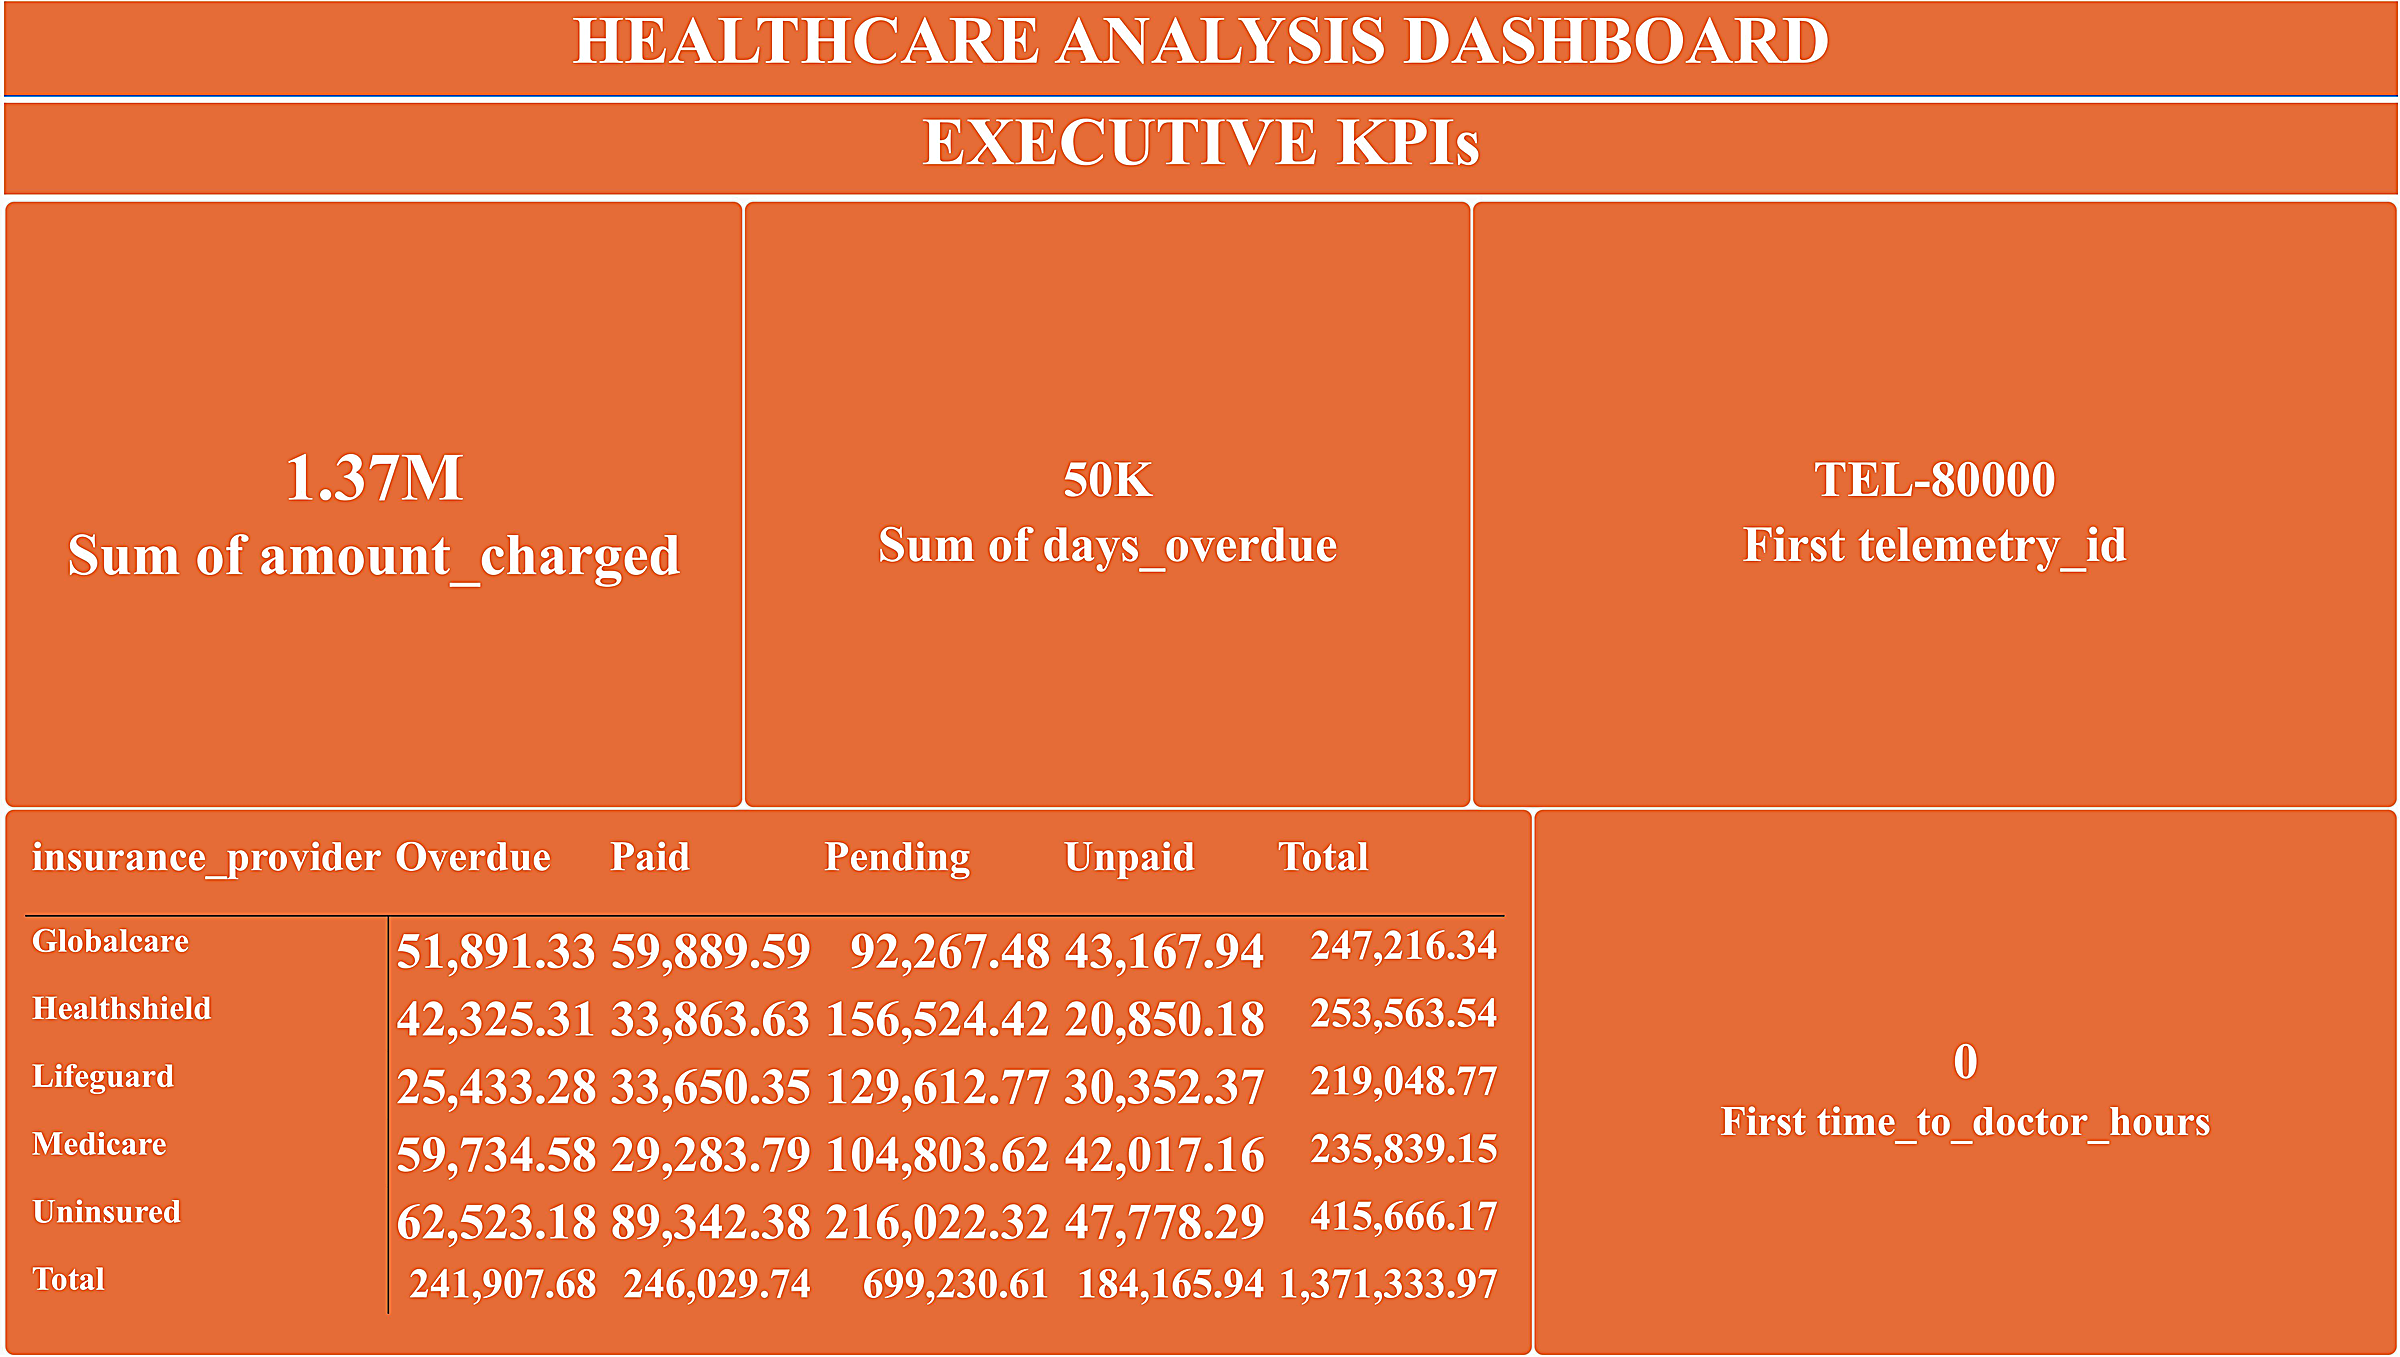

What the dashboard file says about the page in this screenshot:
{"tool":"powerbi","page":{"name":"Executive KPIs","canvas":[1920,1080],"ordinal":0},"visuals":[{"type":"shape","title":"HEALTHCARE ANALYSIS DASHBOARD","box":[9.8,0,1910.4,75.6],"z":0},{"type":"shape","title":"EXECUTIVE KPIs","box":[9.6,80.5,1910.4,73.2],"z":1000},{"type":"card","fields":{"Values":["Sum(fact_billing_invoices.amount_charged)"]},"box":[9.8,158.6,590.4,485.5],"z":2000},{"type":"pivotTable","fields":{"Rows":["dim_patient_registry.insurance_provider"],"Columns":["fact_billing_invoices.payment_status"],"Values":["Sum(fact_billing_invoices.amount_charged)"]},"box":[9.8,644.1,1219.9,436.7],"z":3000},{"type":"card","fields":{"Values":["Sum(fact_billing_invoices.days_overdue)"]},"box":[600.2,158.6,580.7,485.5],"z":4000},{"type":"card","fields":{"Values":["Min(fact_clinical_telemetry.time_to_doctor_hours)"]},"box":[1229.7,644.1,690.5,436.7],"z":5000},{"type":"card","fields":{"Values":["Min(fact_clinical_telemetry.telemetry_id)"]},"box":[1181,159,739,485],"z":6000}]}

Visuals, with their boxes in screenshot pixels (x1, y1, x2, y2), scaled from the page's 1920x1080 canvas onto the 2400x1357 screenshot:
"HEALTHCARE ANALYSIS DASHBOARD" shape: [left=12, top=0, right=2399, bottom=95]
"EXECUTIVE KPIs" shape: [left=12, top=101, right=2399, bottom=193]
card - Sum(fact_billing_invoices.amount_charged): [left=12, top=199, right=750, bottom=809]
pivotTable - dim_patient_registry.insurance_provider x fact_billing_invoices.payment_status: [left=12, top=809, right=1537, bottom=1356]
card - Sum(fact_billing_invoices.days_overdue): [left=750, top=199, right=1476, bottom=809]
card - Min(fact_clinical_telemetry.time_to_doctor_hours): [left=1537, top=809, right=2399, bottom=1356]
card - Min(fact_clinical_telemetry.telemetry_id): [left=1476, top=200, right=2399, bottom=809]
